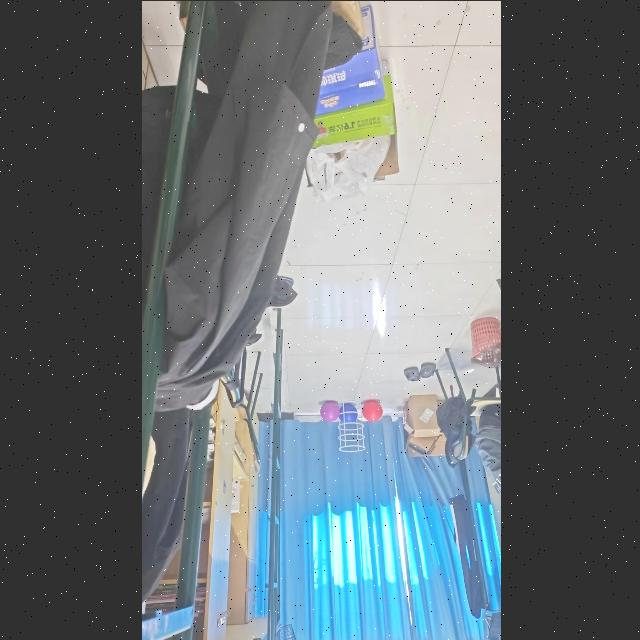B: (340, 400, 358, 426)
P: (318, 401, 340, 424)
R: (360, 400, 382, 422)
S: (336, 406, 364, 452)
